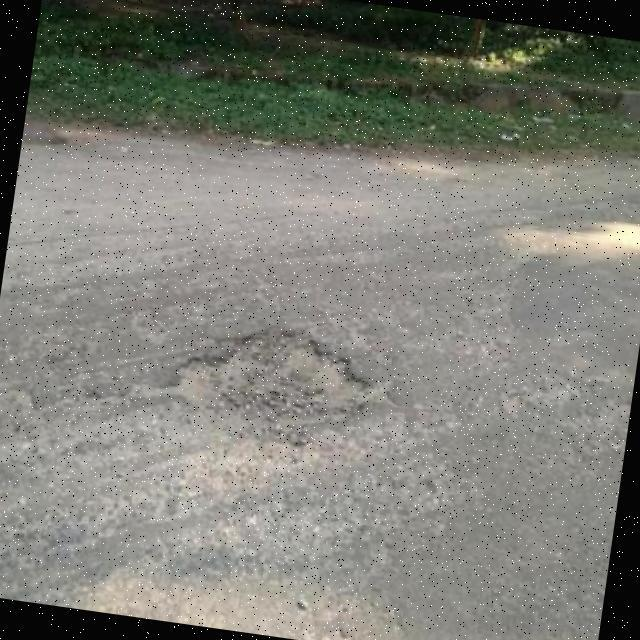Pothole: (153, 327, 368, 444)
